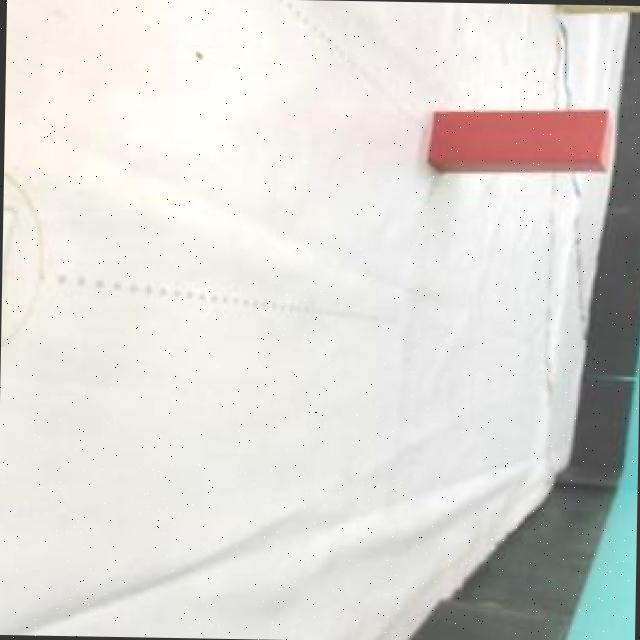redbox: (427, 104, 614, 178)
